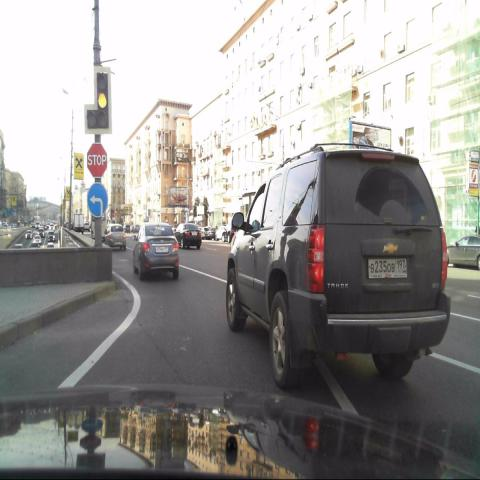2_5: (86, 140, 108, 178)
4_1_3: (88, 180, 108, 218)
